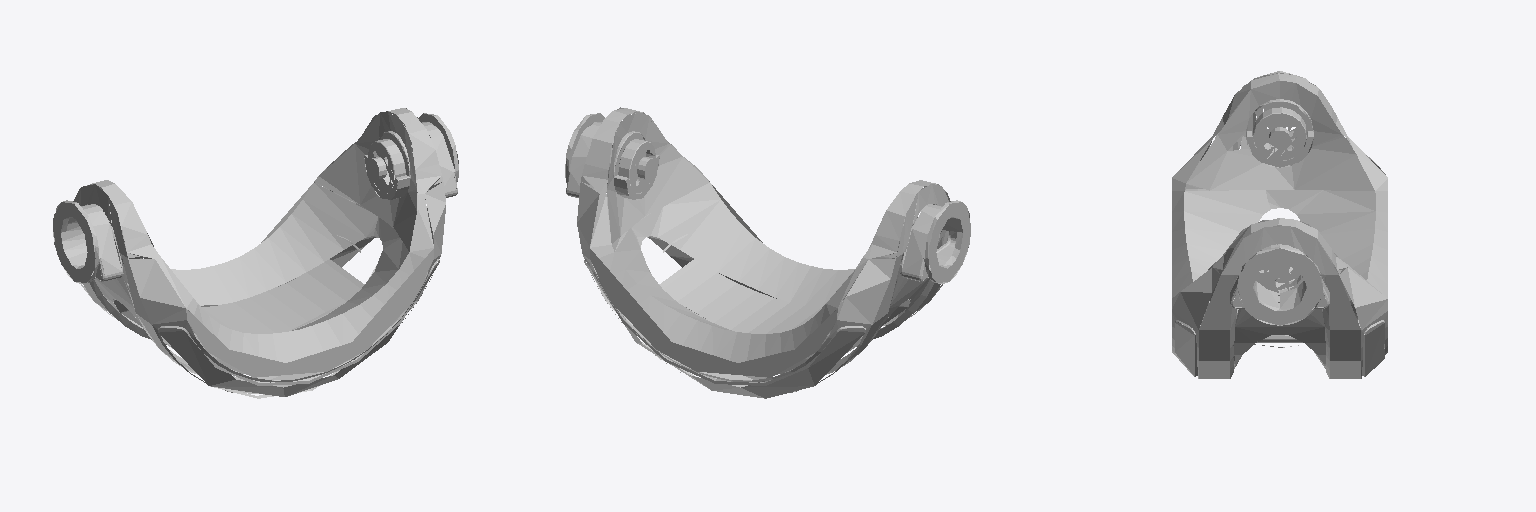
File: armr_wri1_joint.obj
3 views of the same model, side by side, from view 1: azimuth 30°, elevation 25°; view 2: azimuth 150°, elevation 25°; view 3: azimuth 270°, elevation 25° (orthographic).
Size of the model in its own units: 0.093 by 0.0522 by 0.048.